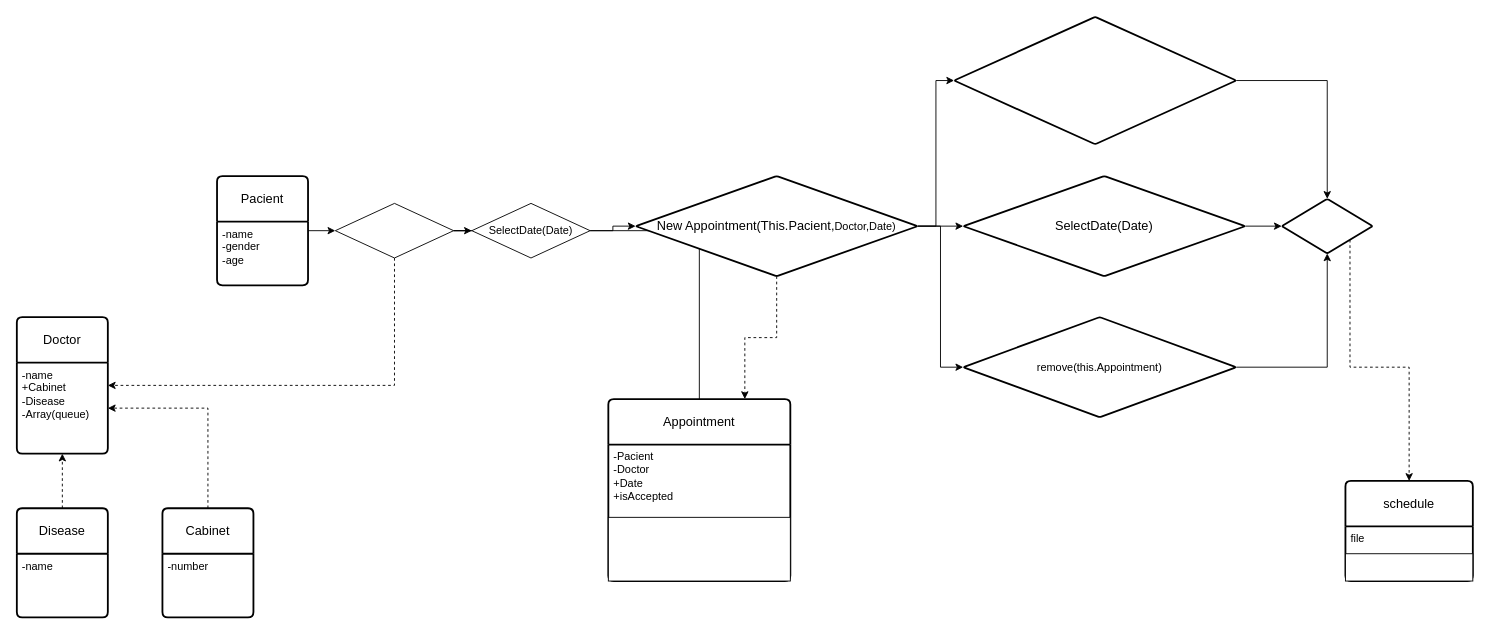
Some shapes in this 1489 by 633 pixel diagram are drawn without their labels. The centre of each missing label's shape, as x and y in pixels:
"AcceptAppoiintment(Appointment)" goes at pixel 1095 80.
"SelectDoctor(Doctor)" goes at pixel 394 230.
"SelectDoctor(Doctor) SelectDate(Date) AcceptAppoiintment(Appointment)" goes at pixel 698 548.
"write" goes at pixel 1326 225.
"write(this.file,Appointment )" goes at pixel 1409 567.
